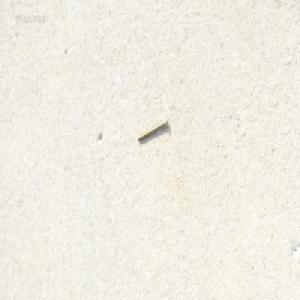Bolt: (137, 116, 168, 142)
